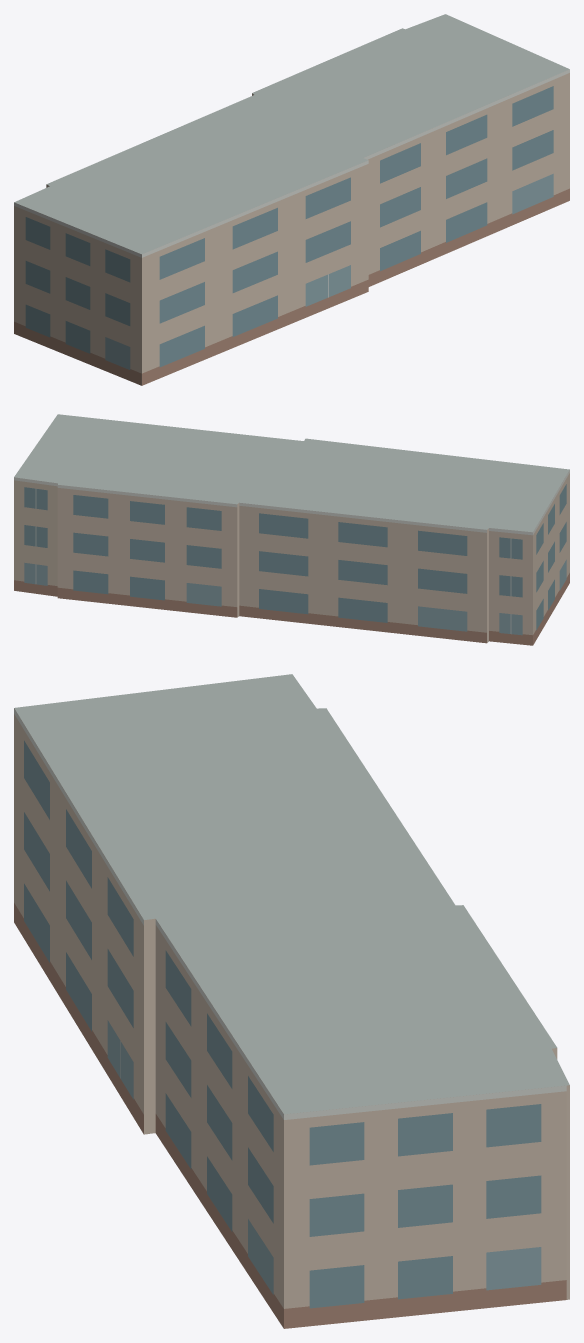
Rendered from survey-upis-32617176.glb.
3 renders of one model, top to bottom at view 1: azimuth 30°, elevation 25°; view 2: azimuth 150°, elevation 25°; view 3: azimuth 270°, elevation 25°, orthographic. The views are drawn at different scales.
Parts seen in each view (by area): view 1: survey-upis-32617176.tmp; view 2: survey-upis-32617176.tmp; view 3: survey-upis-32617176.tmp.
Part boxes in pixels (x1=…): survey-upis-32617176.tmp: x1=14, y1=14, x2=569, y2=385; survey-upis-32617176.tmp: x1=14, y1=414, x2=569, y2=645; survey-upis-32617176.tmp: x1=14, y1=674, x2=569, y2=1328.
Size of the model in its own units: 40.31 by 9.15 by 21.5.
